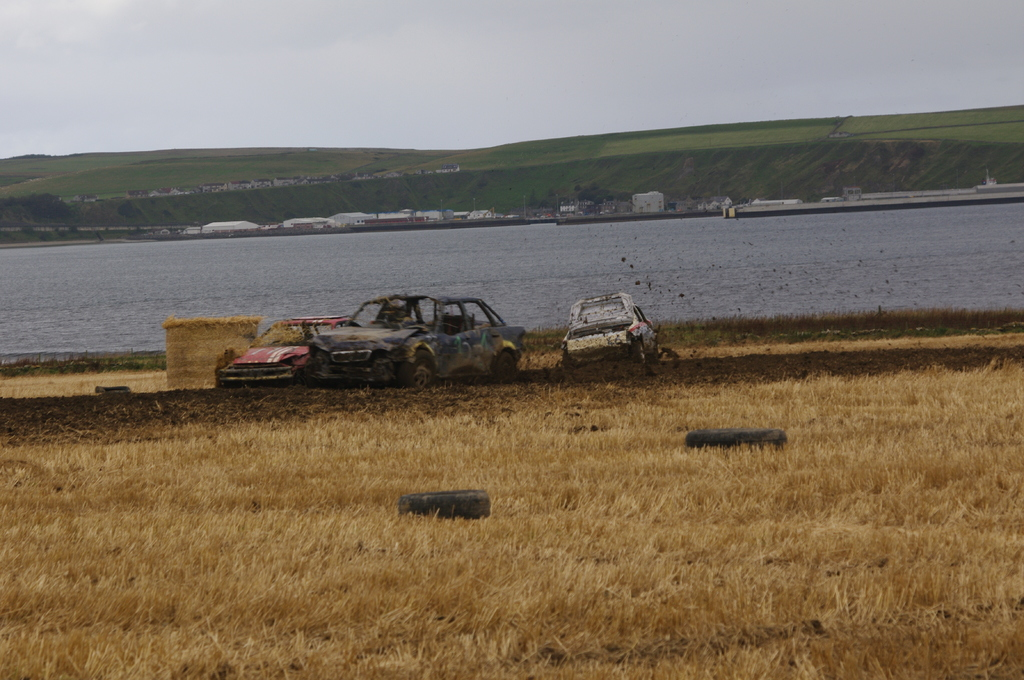Car: (310, 292, 528, 385), (213, 312, 353, 380), (564, 295, 654, 375)
